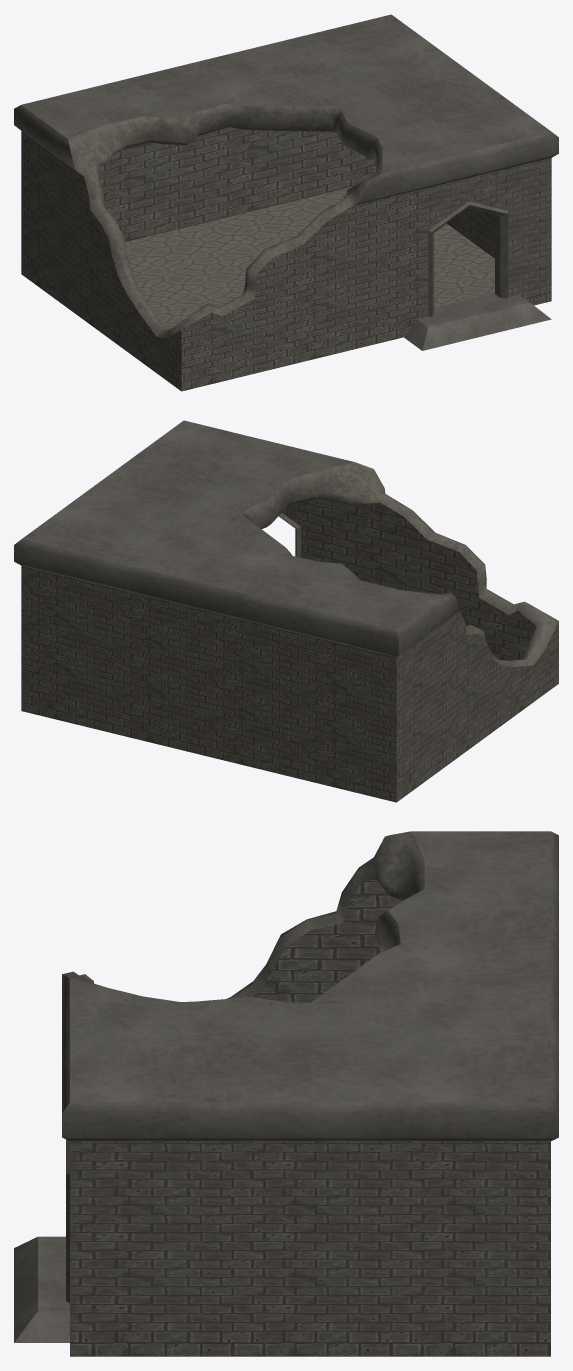
Rendered from Ruins_Building_03col.fbx.
3 renders of one model, top to bottom at view 1: azimuth 30°, elevation 25°; view 2: azimuth 150°, elevation 25°; view 3: azimuth 270°, elevation 25°, orthographic. The views are drawn at different scales.
Visible parts, largest first — view 1: Ruins_Building_03col; view 2: Ruins_Building_03col; view 3: Ruins_Building_03col.
Boxes of the visible parts, x1,y1,x2,y2 form: Ruins_Building_03col: [14, 14, 558, 391]; Ruins_Building_03col: [14, 420, 558, 802]; Ruins_Building_03col: [14, 831, 558, 1356].
Size of the model in its own units: 82 by 35 by 68.
